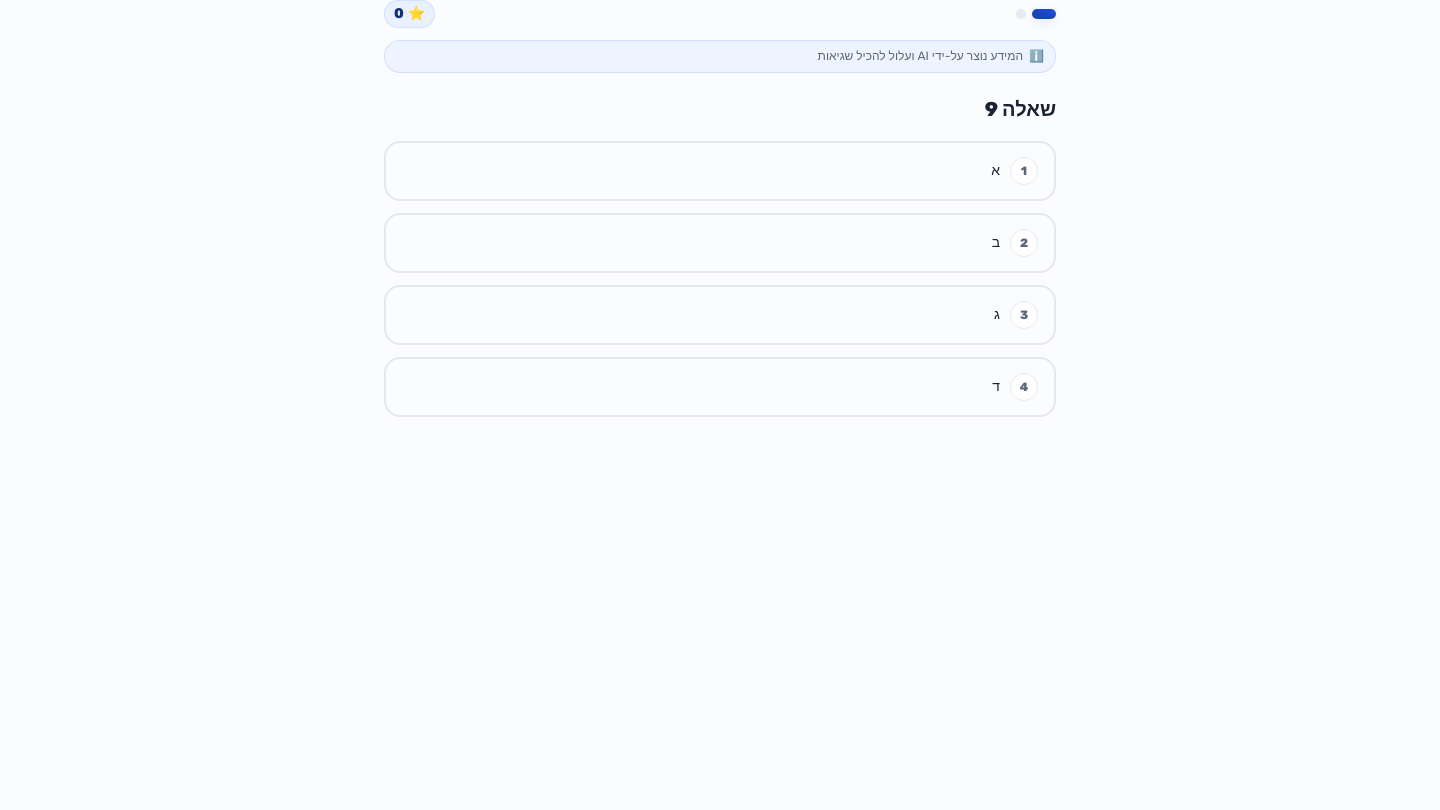
Test: LessonPlayer › #7: Escape על ה-sheet ממשיך לשאלה-הבאה, ופוקוס נכנס לדיאלוג בפתיחה
Click the radio button with test id "mcq-option-0". click: click(720, 171)
box: [384,141,1056,201]
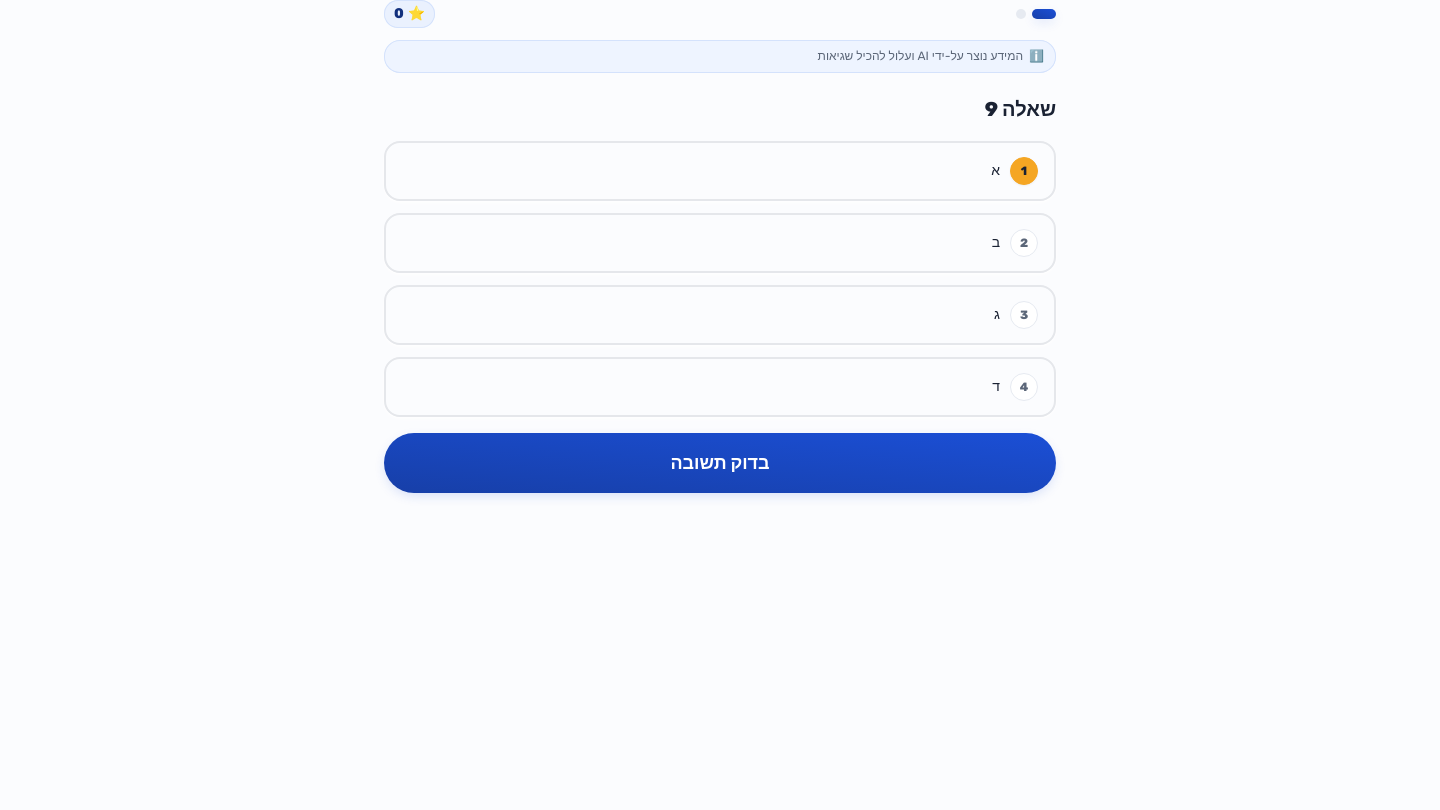
Click the button with test id "check-answer-button". click: click(720, 463)
box: [384,433,1056,493]
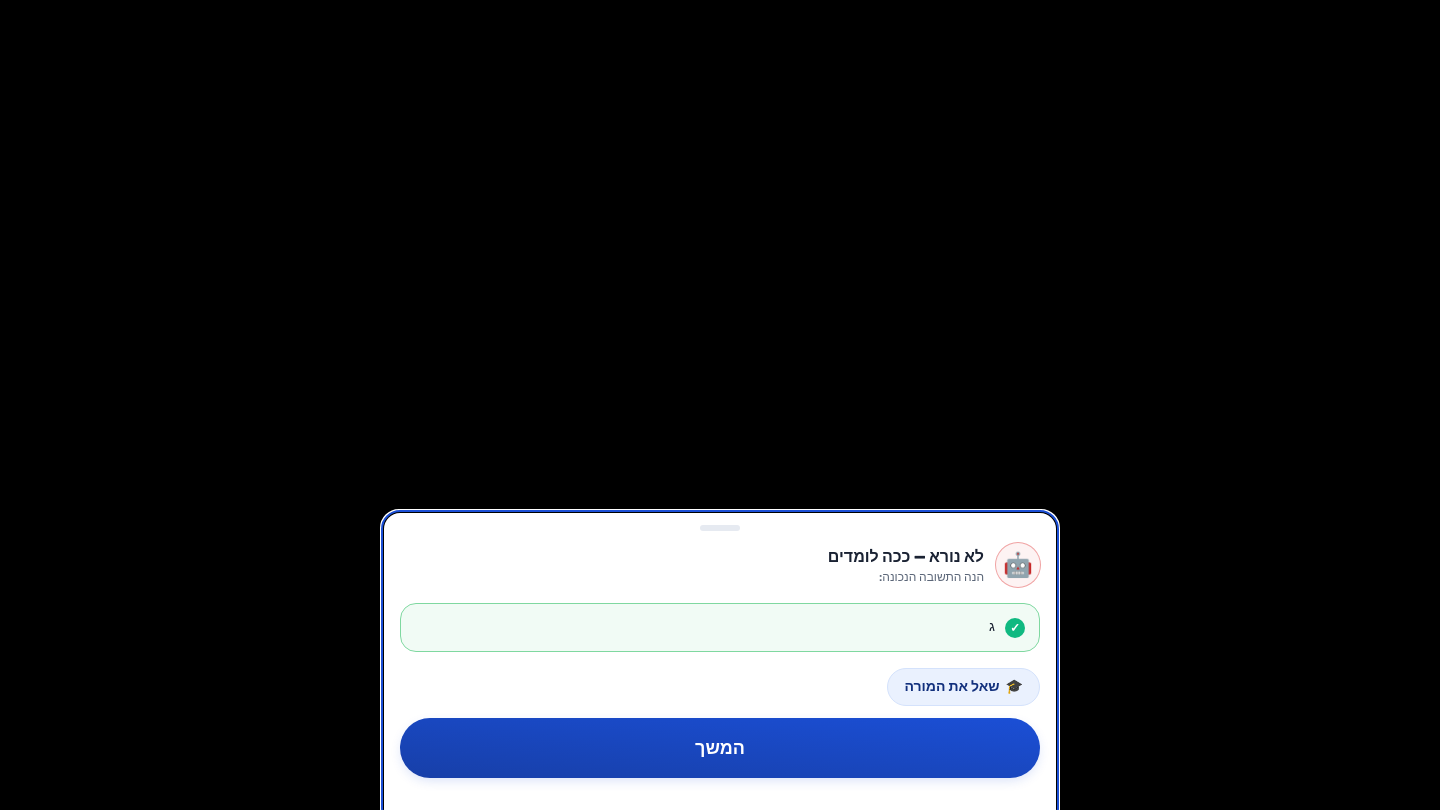
Press Escape
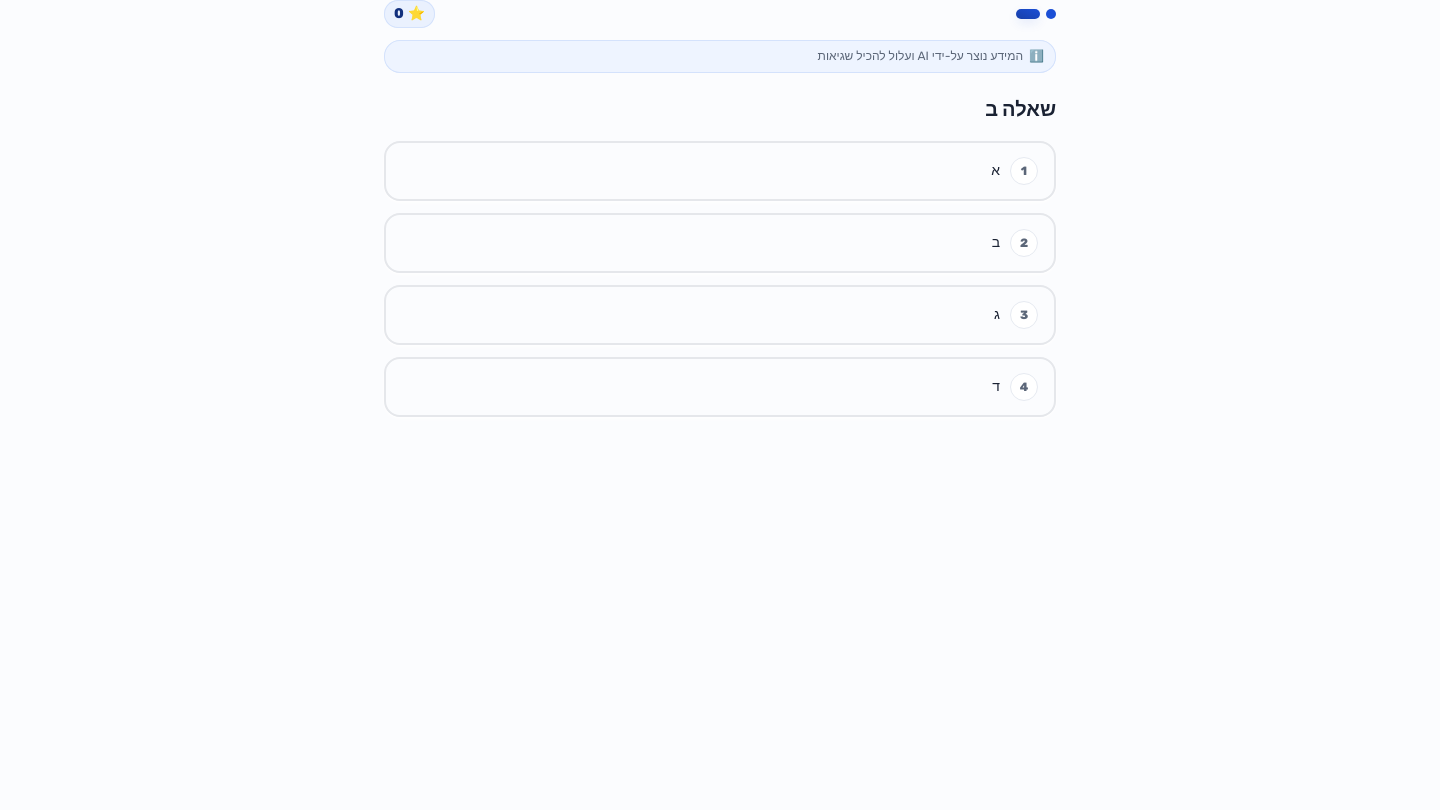
Check: the dialog with test id "feedback-wrong" is gone
Check: the text with test id "mcq-prompt" reads "שאלה ב", box [985,96,1056,120]
